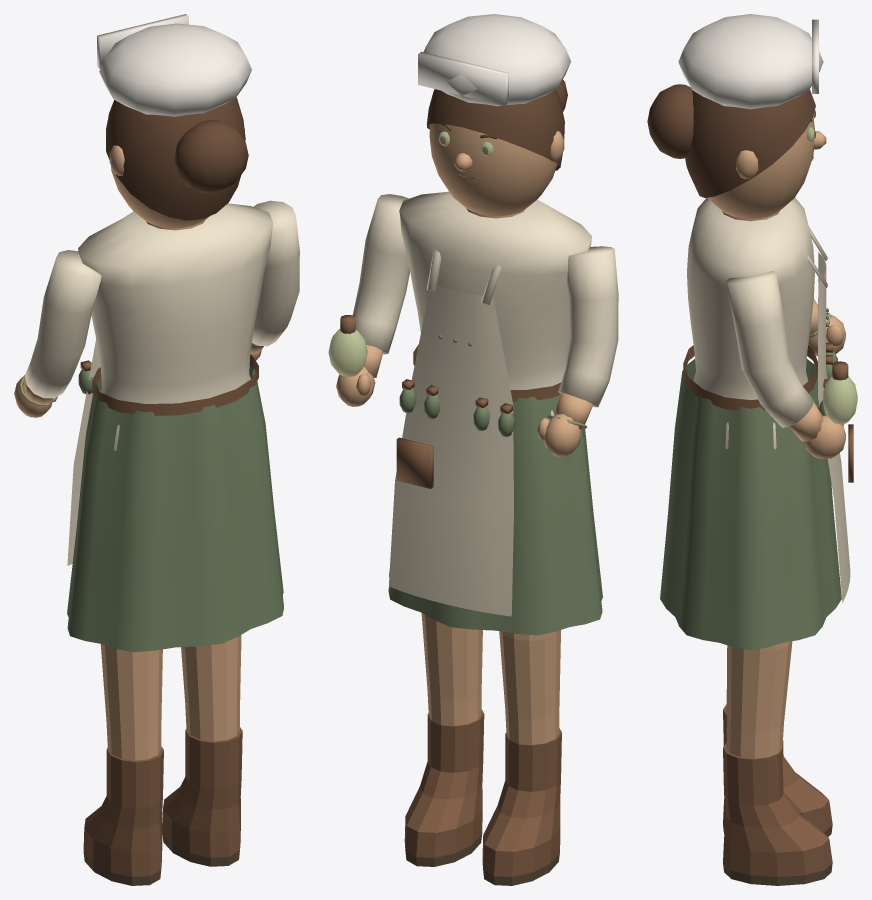
Rendered from SM_NPC_TUFA.glb.
3 renders of one model, left to right at view 1: azimuth 30°, elevation 25°; view 2: azimuth 150°, elevation 25°; view 3: azimuth 270°, elevation 25°, orthographic.
Parts seen in each view (by area): view 1: SM_NPC_TUFA_BODY, SM_NPC_TUFA_HAIR, SM_NPC_TUFA_LEG_L, SM_NPC_TUFA_LEG_R, SM_NPC_TUFA_ARM_L, SM_NPC_TUFA_ARM_R, SM_NPC_TUFA_HEAD; view 2: SM_NPC_TUFA_BODY, SM_NPC_TUFA_HAIR, SM_NPC_TUFA_LEG_L, SM_NPC_TUFA_LEG_R, SM_NPC_TUFA_ARM_L, SM_NPC_TUFA_ARM_R, SM_NPC_TUFA_HEAD; view 3: SM_NPC_TUFA_BODY, SM_NPC_TUFA_HAIR, SM_NPC_TUFA_LEG_R, SM_NPC_TUFA_ARM_R, SM_NPC_TUFA_HEAD, SM_NPC_TUFA_LEG_L, SM_NPC_TUFA_ARM_L.
Boxes of the visible parts, x1,y1,x2,y2 form: SM_NPC_TUFA_BODY: (67,203,283,652); SM_NPC_TUFA_HAIR: (97,14,251,220); SM_NPC_TUFA_LEG_L: (83,644,163,885); SM_NPC_TUFA_LEG_R: (162,635,242,866); SM_NPC_TUFA_ARM_L: (14,250,101,417); SM_NPC_TUFA_ARM_R: (250,200,299,360); SM_NPC_TUFA_HEAD: (109,129,244,227); SM_NPC_TUFA_BODY: (388,191,602,635); SM_NPC_TUFA_HAIR: (418,14,570,170); SM_NPC_TUFA_LEG_L: (482,630,561,885); SM_NPC_TUFA_LEG_R: (404,613,484,866); SM_NPC_TUFA_ARM_L: (537,246,618,457); SM_NPC_TUFA_ARM_R: (328,194,409,406); SM_NPC_TUFA_HEAD: (429,123,564,216); SM_NPC_TUFA_BODY: (660,198,853,650); SM_NPC_TUFA_HAIR: (647,14,823,197); SM_NPC_TUFA_LEG_R: (723,641,832,885); SM_NPC_TUFA_ARM_R: (725,271,857,459); SM_NPC_TUFA_HEAD: (707,116,826,219); SM_NPC_TUFA_LEG_L: (723,648,832,836); SM_NPC_TUFA_ARM_L: (808,299,845,356).
Bounding box in the file's own units: 0.6008 × 1.86 × 0.4295.
